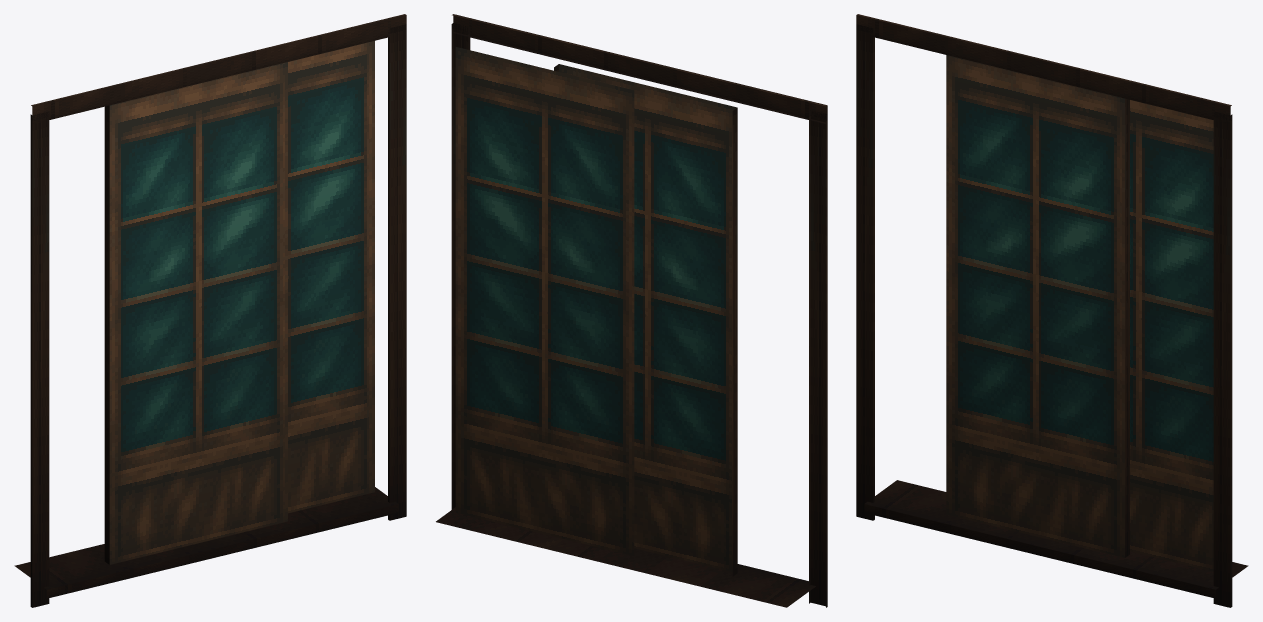
File: prop_sash-12-16-2.glb
3 views of the same model, side by side, from view 1: azimuth 30°, elevation 25°; view 2: azimuth 150°, elevation 25°; view 3: azimuth 330°, elevation 25° (orthographic).
Visible parts, largest first — view 1: prop_sash-12-16-2; view 2: prop_sash-12-16-2; view 3: prop_sash-12-16-2.
Part boxes in pixels (x1=…): prop_sash-12-16-2: x1=14, y1=14, x2=406, y2=607; prop_sash-12-16-2: x1=436, y1=14, x2=827, y2=607; prop_sash-12-16-2: x1=856, y1=14, x2=1248, y2=607.
Size of the model in its own units: 1.32 by 1.69 by 0.2.
Materials: 2 (2 with a texture image).
